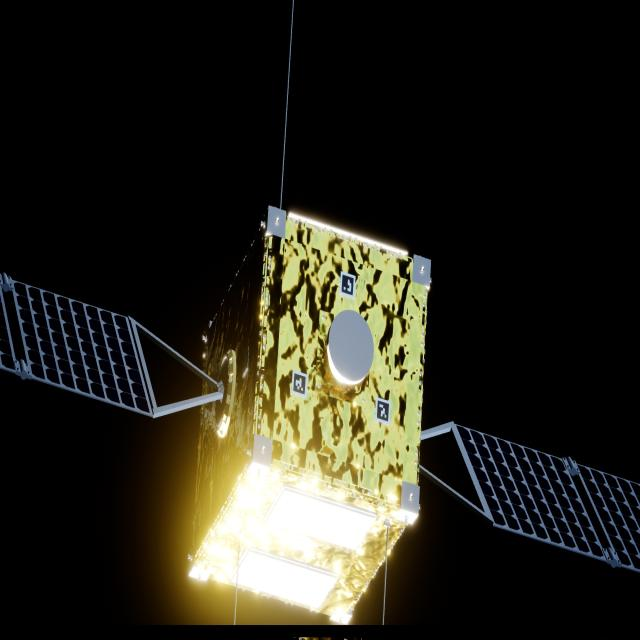satellite: (0, 207, 640, 625)
